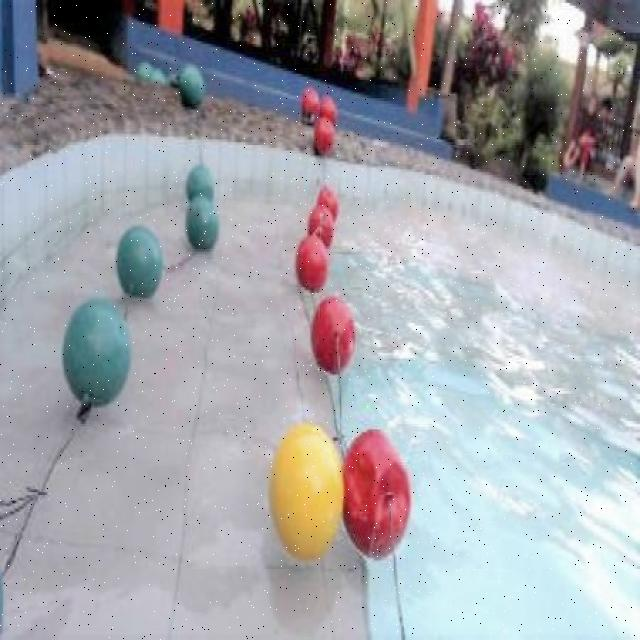buoy: (268, 419, 344, 559), (341, 430, 410, 560), (60, 299, 131, 406), (309, 295, 355, 378), (113, 221, 160, 298), (184, 193, 220, 251), (294, 234, 328, 291), (185, 163, 215, 210), (306, 203, 334, 250), (178, 64, 203, 105), (314, 183, 338, 222), (312, 114, 334, 153), (300, 88, 319, 120), (319, 94, 337, 124)
